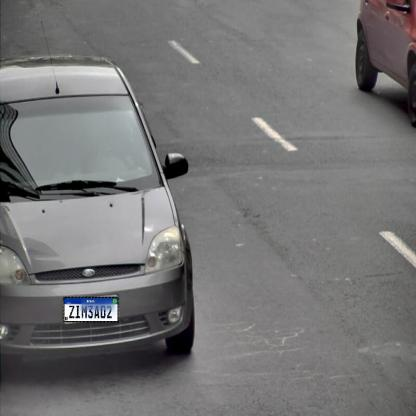PlacaM: (64, 297, 118, 322)
